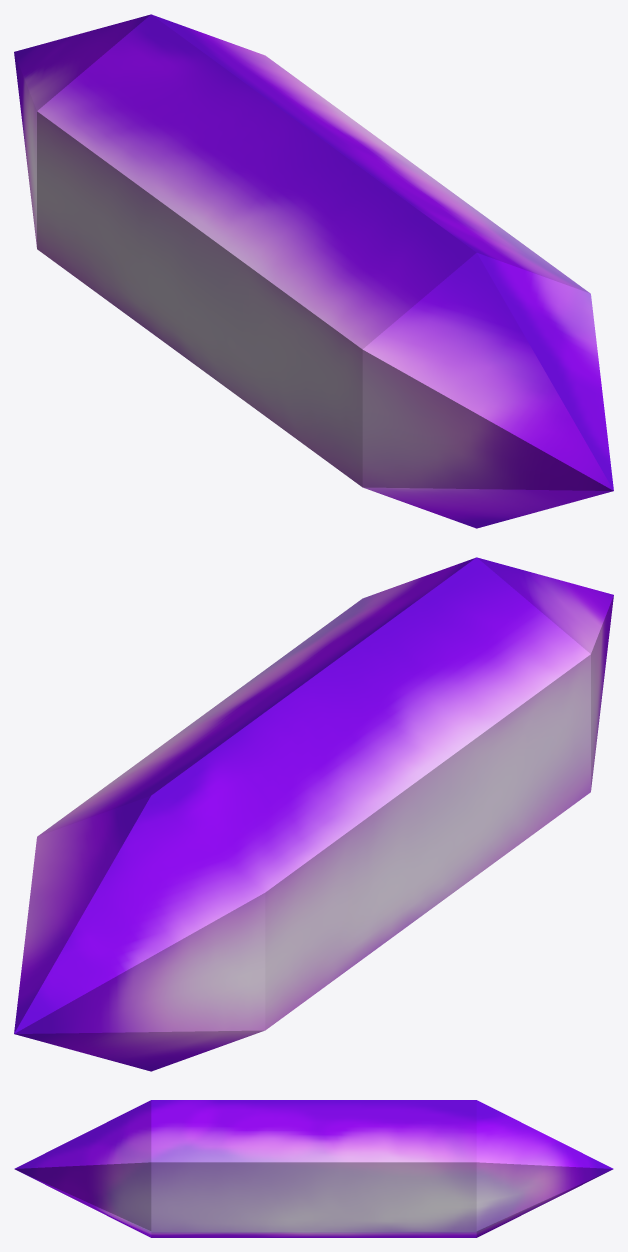
The model's file is Orethyst.glb.
3 views of the same model, one above another, from view 1: azimuth 30°, elevation 25°; view 2: azimuth 150°, elevation 25°; view 3: azimuth 270°, elevation 25° (orthographic). The views are drawn at different scales.
Visible parts, largest first — view 1: Cylinder; view 2: Cylinder; view 3: Cylinder.
Boxes of the visible parts, bbox=[...] form: Cylinder: bbox=[14, 14, 613, 528]; Cylinder: bbox=[14, 557, 613, 1071]; Cylinder: bbox=[14, 1100, 613, 1237].
Bounding box in the file's own units: 0.3624 × 0.4185 × 1.65.
1 material, 1 textured.
